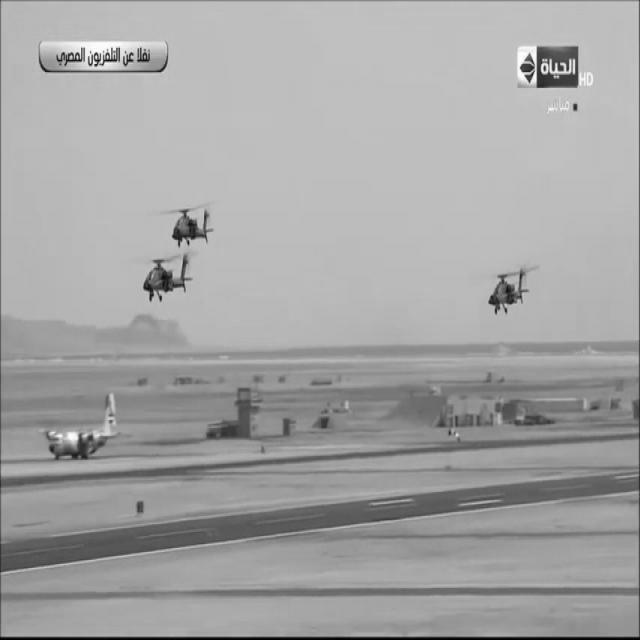helikopter: (482, 246, 538, 326), (166, 186, 217, 256)
